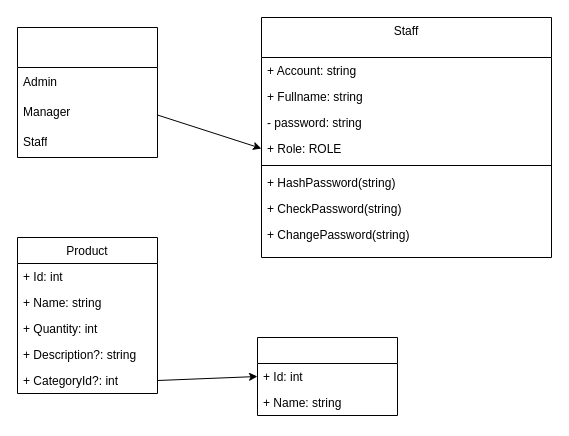
Some shapes in this 569 by 436 pixel diagram are drawn without their labels. Each missing label, with the box of its shape:
<<enumeration>> ROLE: (16, 26, 158, 158)
Category: (256, 336, 398, 416)
